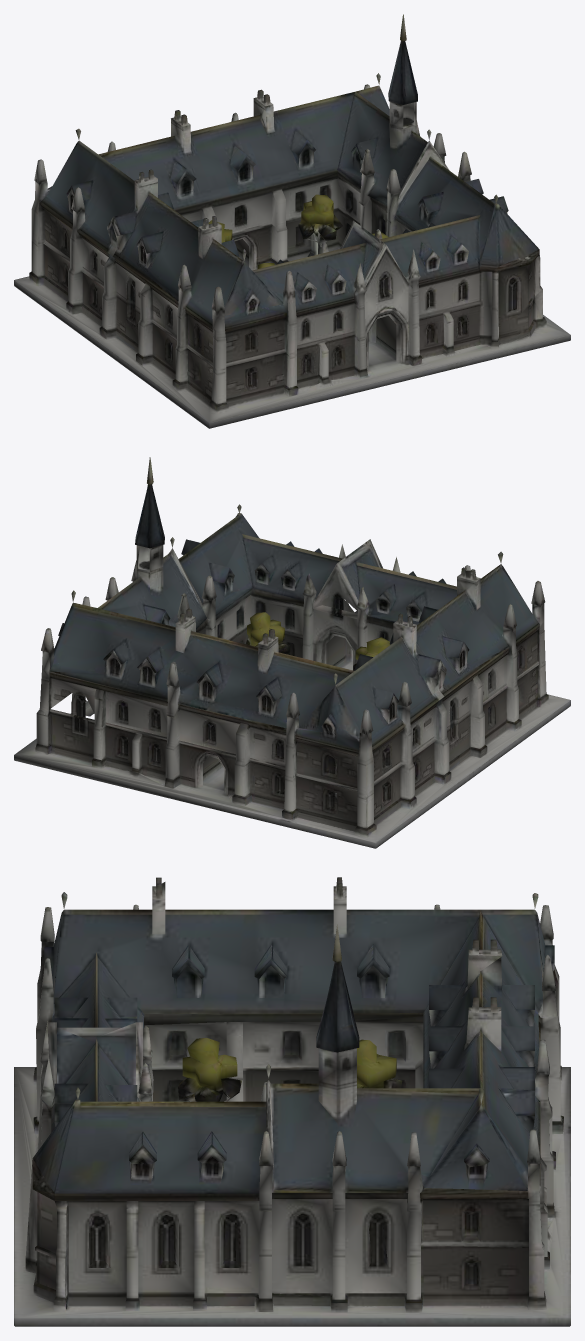
File: hospital.glb
3 views of the same model, one above another, from view 1: azimuth 30°, elevation 25°; view 2: azimuth 150°, elevation 25°; view 3: azimuth 270°, elevation 25° (orthographic). The views are drawn at different scales.
Parts seen in each view (by area): view 1: tripo_node_25997bc9-89f0-41be-898b-17871; view 2: tripo_node_25997bc9-89f0-41be-898b-17871; view 3: tripo_node_25997bc9-89f0-41be-898b-17871.
Part boxes in pixels (x1,y1,x2,y2): tripo_node_25997bc9-89f0-41be-898b-17871: [14, 14, 570, 428]; tripo_node_25997bc9-89f0-41be-898b-17871: [14, 457, 570, 848]; tripo_node_25997bc9-89f0-41be-898b-17871: [14, 877, 570, 1326].
Bounding box in the file's own units: 38.29 × 26 × 35.89.
1 material, 1 textured.
